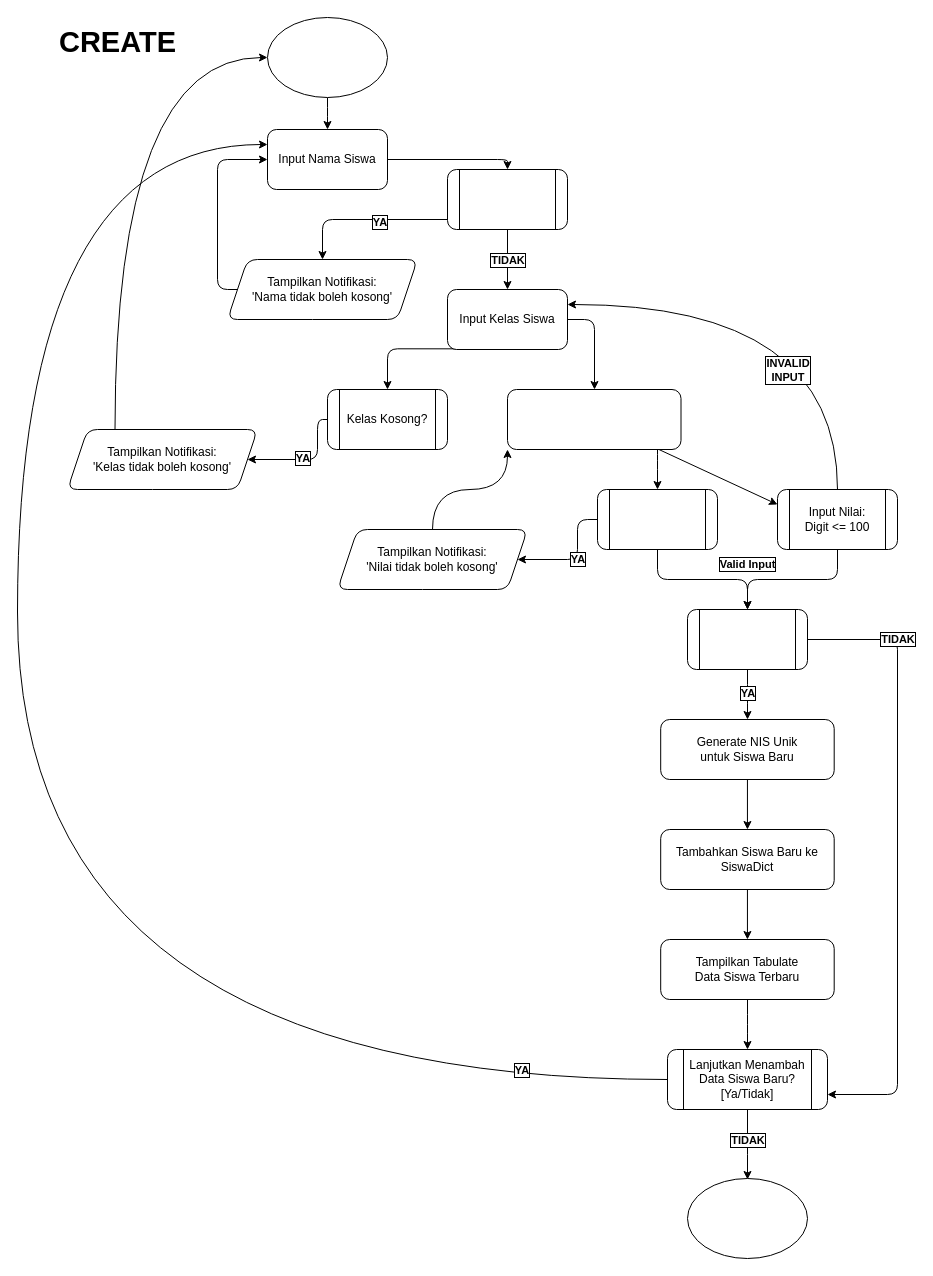
This 933x1276 diagram has some shape labels left out. The box of each missing label's shape, as (x1, y1, x2, y2) in pixels:
[2] TAMBAH DATA SISWA: (266, 16, 388, 98)
Input Nilai Kosong?: (596, 488, 718, 550)
KEMBALI KE MENU UTAMA: (686, 1178, 808, 1258)
Konfirmasi Simpan? [Ya/Tidak]: (686, 608, 808, 670)
Loop Input 5 Nilai Mapel (MTK, IPA, IPS, IND, ENG): (506, 388, 681, 450)
Nama Kosong?: (446, 168, 568, 230)
